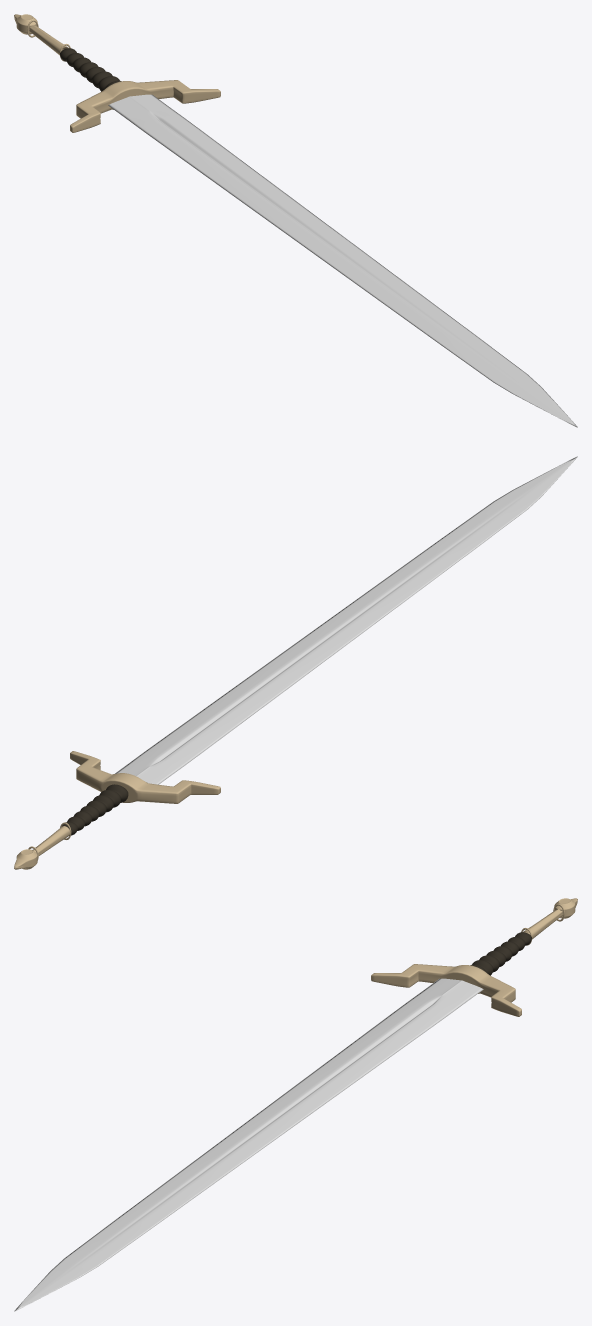
The model's file is sword_withrunes.fbx.
The picture shows the model from 3 angles, top to bottom: view 1: azimuth 30°, elevation 25°; view 2: azimuth 150°, elevation 25°; view 3: azimuth 330°, elevation 25°; orthographic projection.
Parts seen in each view (by area): view 1: Blade, Guard, Handle; view 2: Blade, Guard, Handle; view 3: Blade, Guard, Handle.
Boxes of the visible parts, left/top/right/bottom form: Blade: left=108, top=94, right=577, bottom=427; Guard: left=70, top=80, right=220, bottom=132; Handle: left=60, top=48, right=121, bottom=91; Blade: left=115, top=456, right=577, bottom=784; Guard: left=70, top=751, right=220, bottom=803; Handle: left=62, top=784, right=128, bottom=835; Blade: left=14, top=978, right=483, bottom=1311; Guard: left=371, top=964, right=521, bottom=1016; Handle: left=470, top=932, right=531, bottom=975.
Bounding box in the file's own units: 1672 × 229 × 10983.
